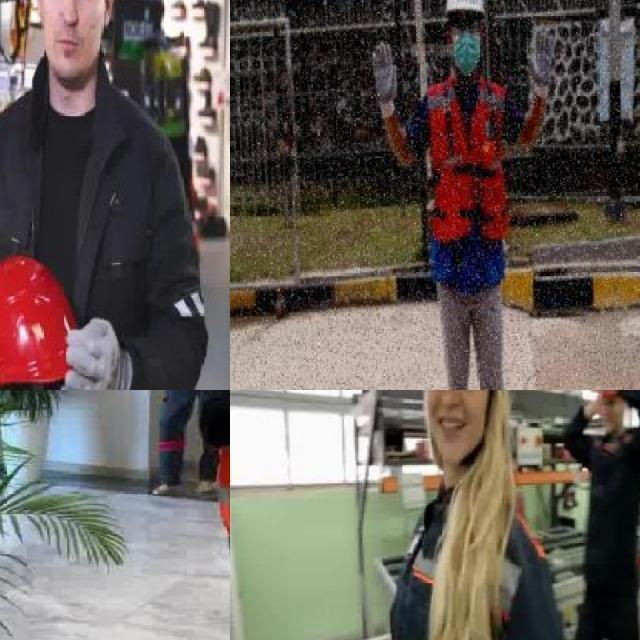apron: (58, 315, 125, 390), (526, 22, 554, 102), (372, 40, 398, 120)
